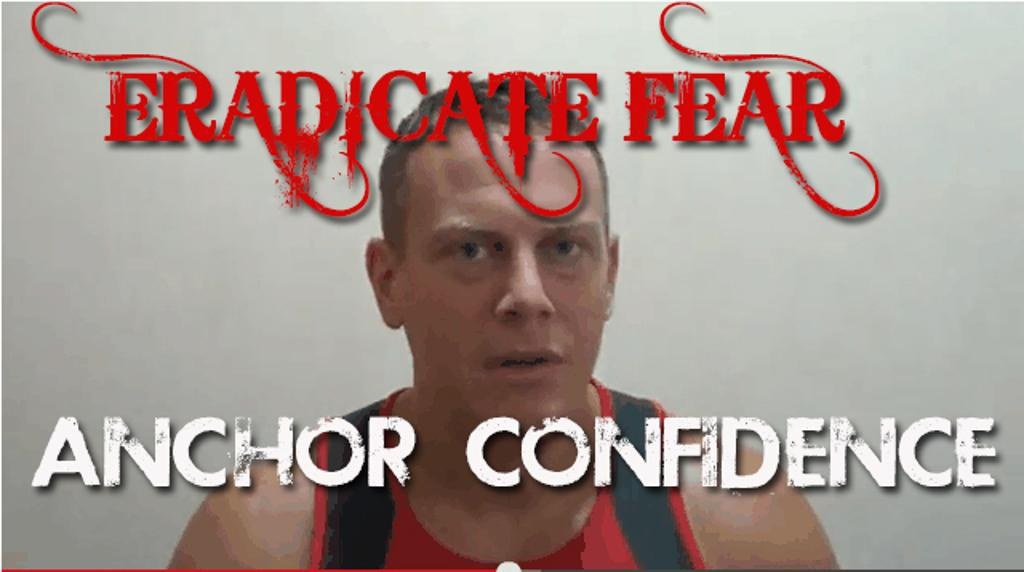face: (407, 135, 599, 431)
